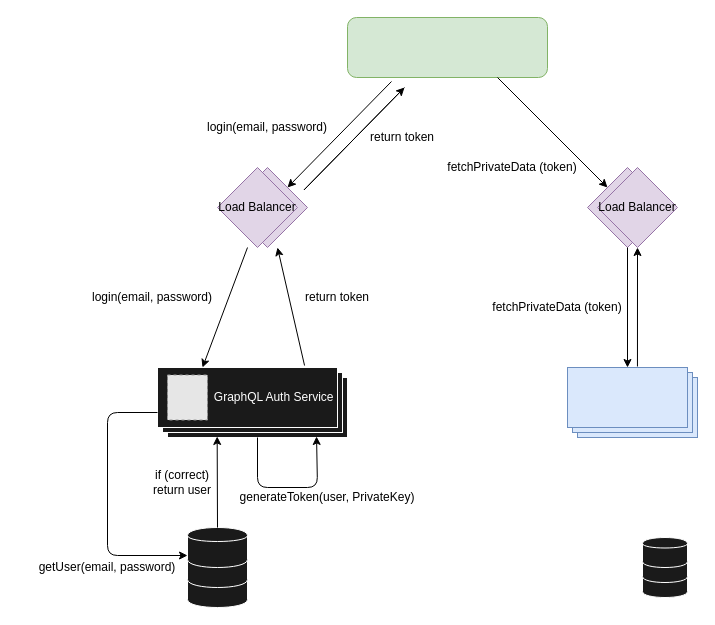
The diagram is 715 pixels wide and 625 high, and some of its shapes have lost their labels. Grey dashed boxes stand in for pictures. Each missing label, with the centre of its shape:
Client: point (447, 47)
Web Server: point (627, 397)
